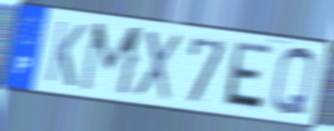7: (186, 36, 229, 105)
E: (219, 39, 275, 115)
K: (43, 18, 89, 91)
M: (76, 20, 147, 99)
Q: (269, 44, 318, 120)
X: (132, 27, 183, 103)
